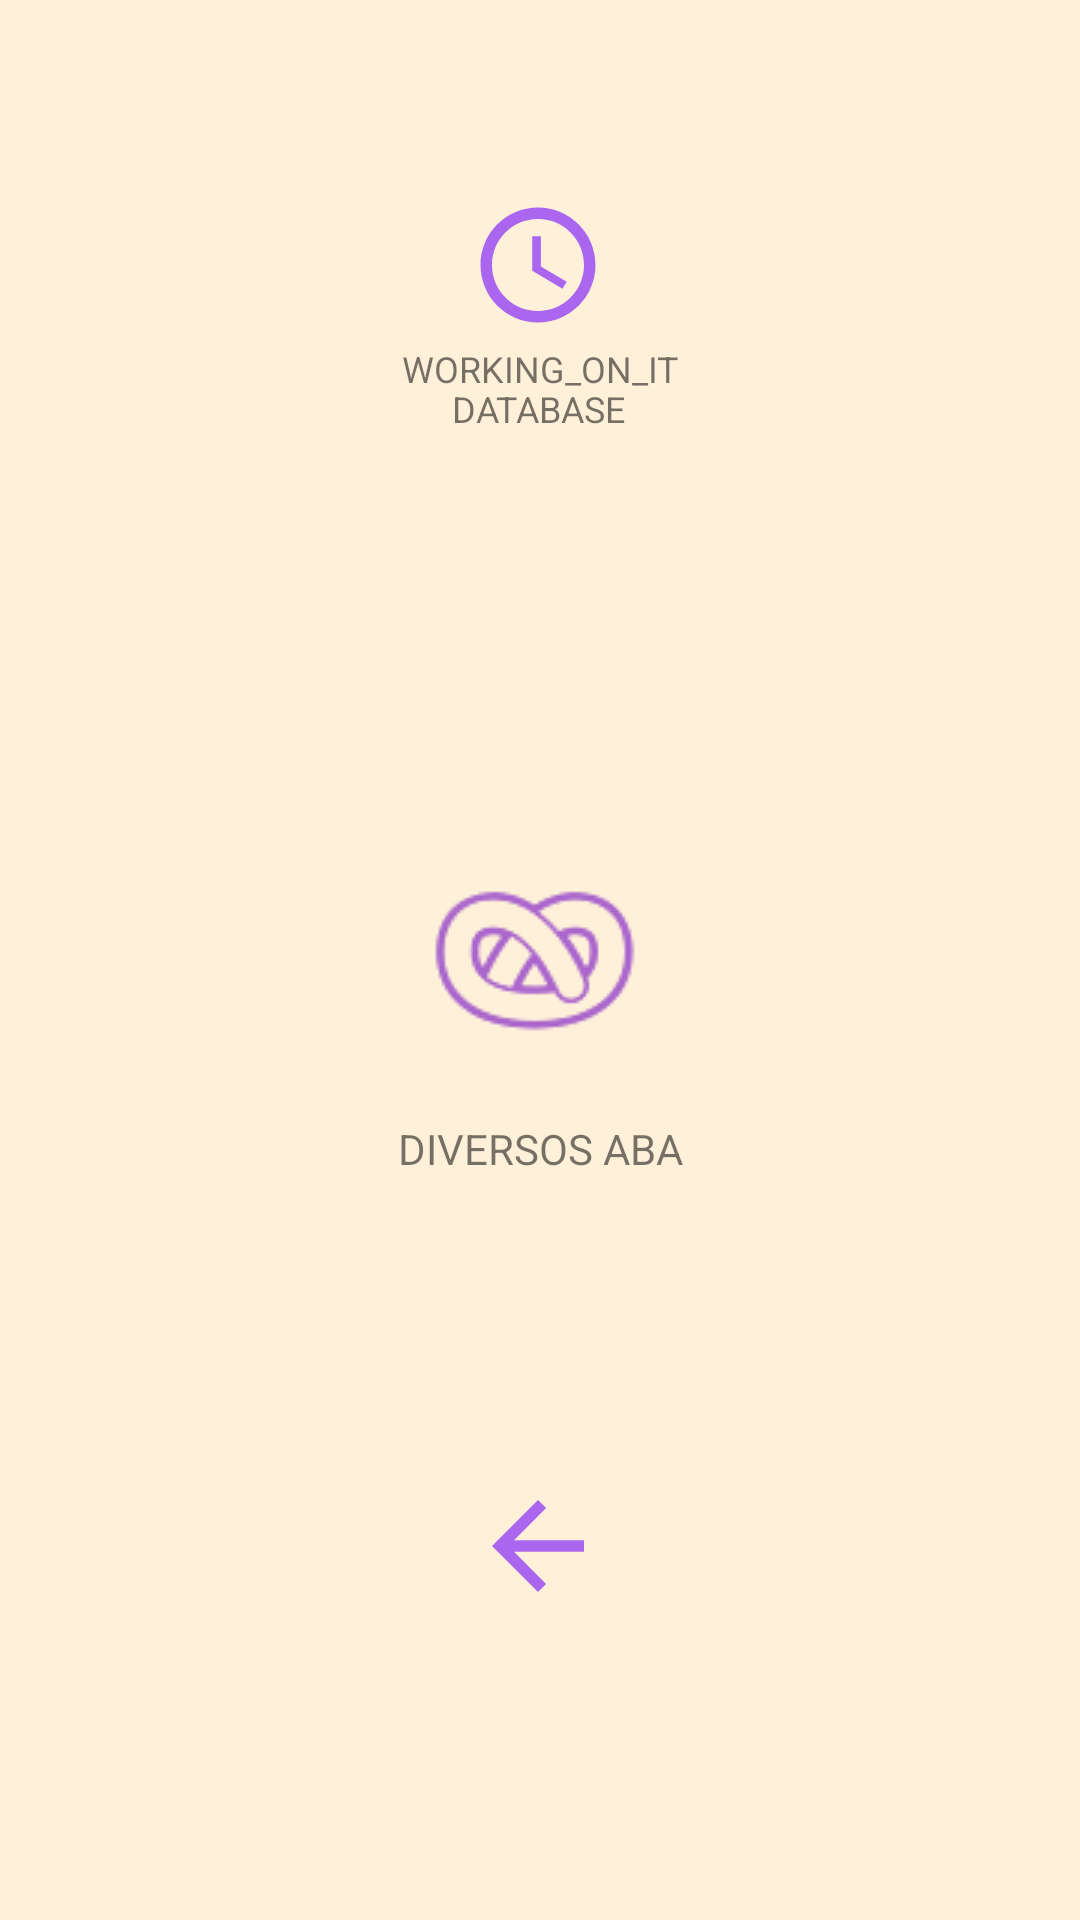

Screen size 1080w x 1920h. Icon name, then its center in pixels as (x,y):
back arrow: (538,1546)
timer: (538,265)
